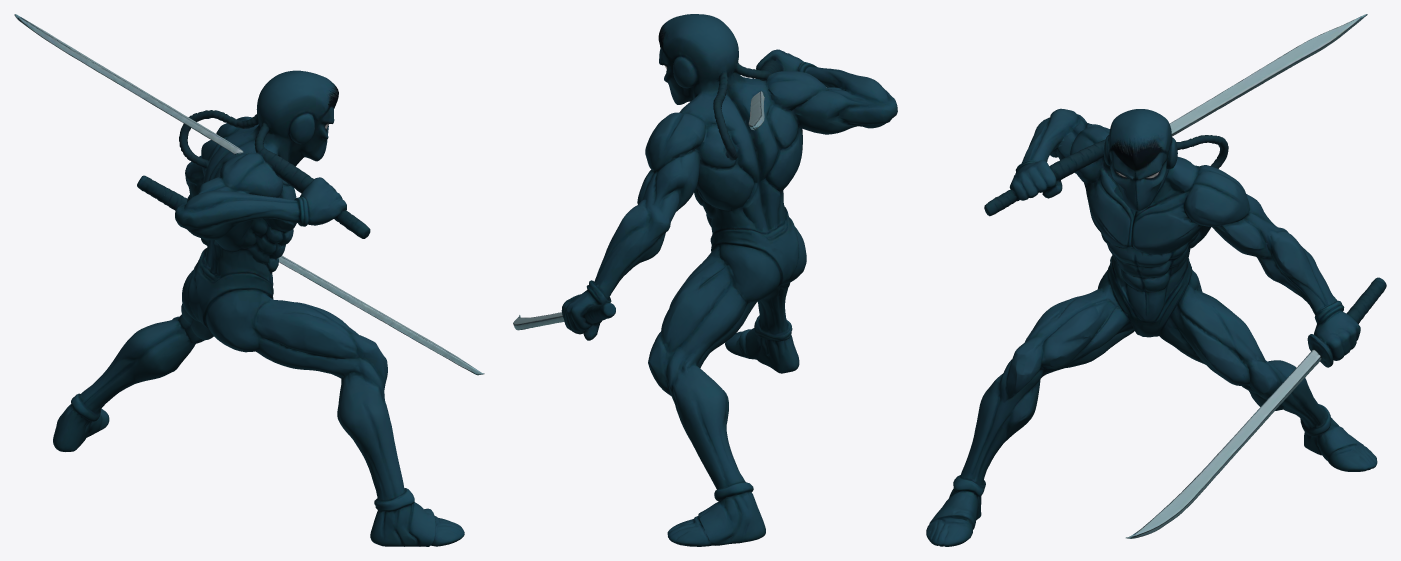
Rendered from ironveil.glb.
3 renders of one model, left to right at view 1: azimuth 30°, elevation 25°; view 2: azimuth 150°, elevation 25°; view 3: azimuth 270°, elevation 25°, orthographic. The views are drawn at different scales.
Parts seen in each view (by area): view 1: tripo_node_74037e3a-9fab-4972-9237-1fc3bf06baa3; view 2: tripo_node_74037e3a-9fab-4972-9237-1fc3bf06baa3; view 3: tripo_node_74037e3a-9fab-4972-9237-1fc3bf06baa3.
Part boxes in pixels (x1,y1,x2,y2): tripo_node_74037e3a-9fab-4972-9237-1fc3bf06baa3: (14, 14, 484, 546); tripo_node_74037e3a-9fab-4972-9237-1fc3bf06baa3: (513, 14, 897, 546); tripo_node_74037e3a-9fab-4972-9237-1fc3bf06baa3: (926, 14, 1386, 546).
Bounding box in the file's own units: 0.865 × 1 × 0.9913.
1 material, 1 textured.
